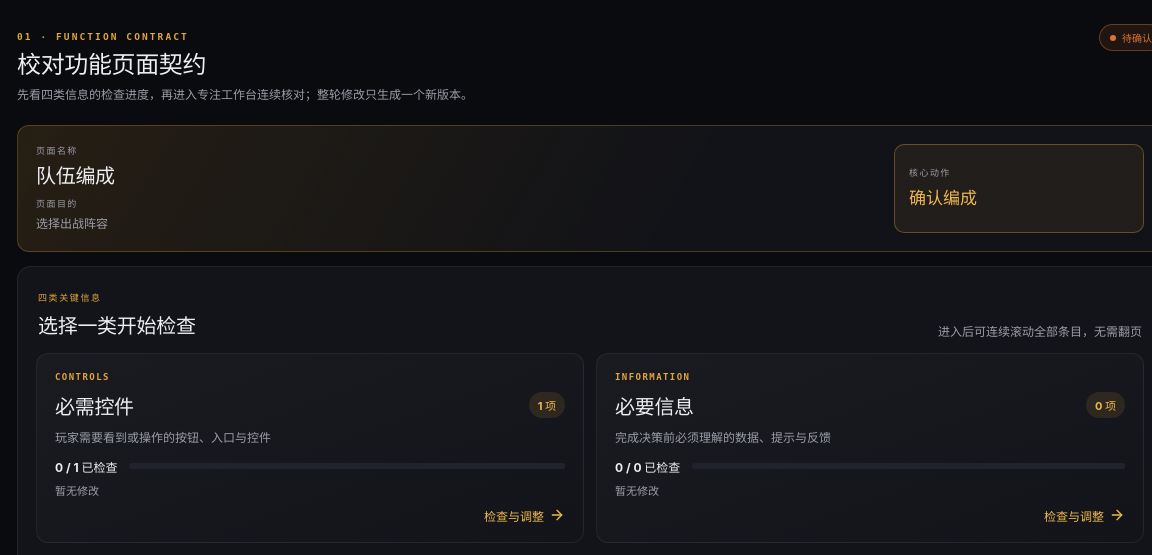
Test: ContractWorkspace（语义角色门禁路线感知） › 探索路线：角色可选，通用角色条目可直接保存，列表显示中文角色标签
Click the button with test id "contract-open-required_controls" at (82, 377), box x1=36 y1=353 x2=584 y2=543
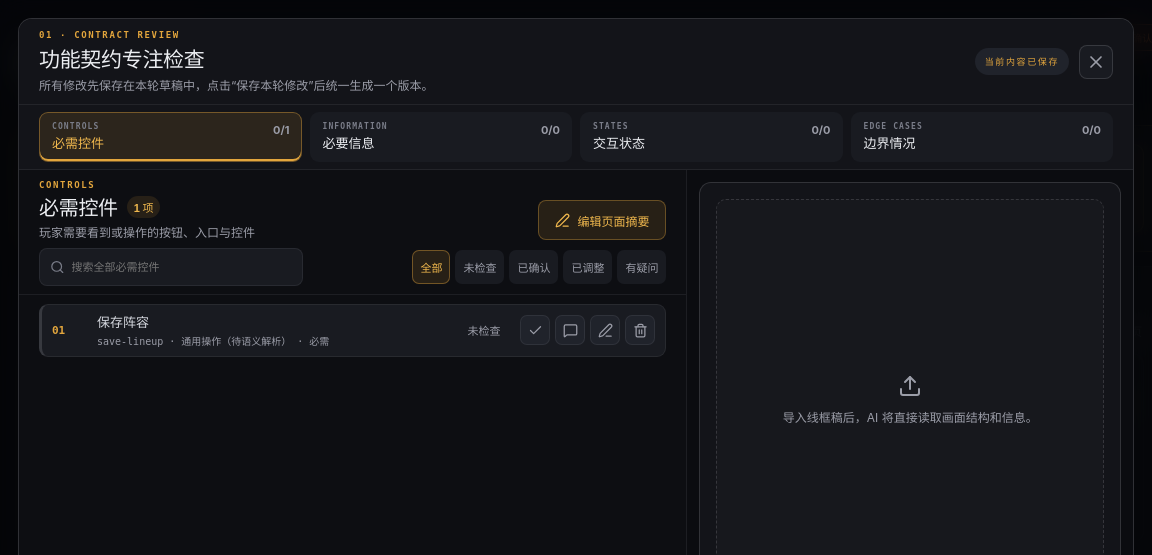
Click the button titled "编辑条目" at (605, 330), box x1=590 y1=315 x2=620 y2=345
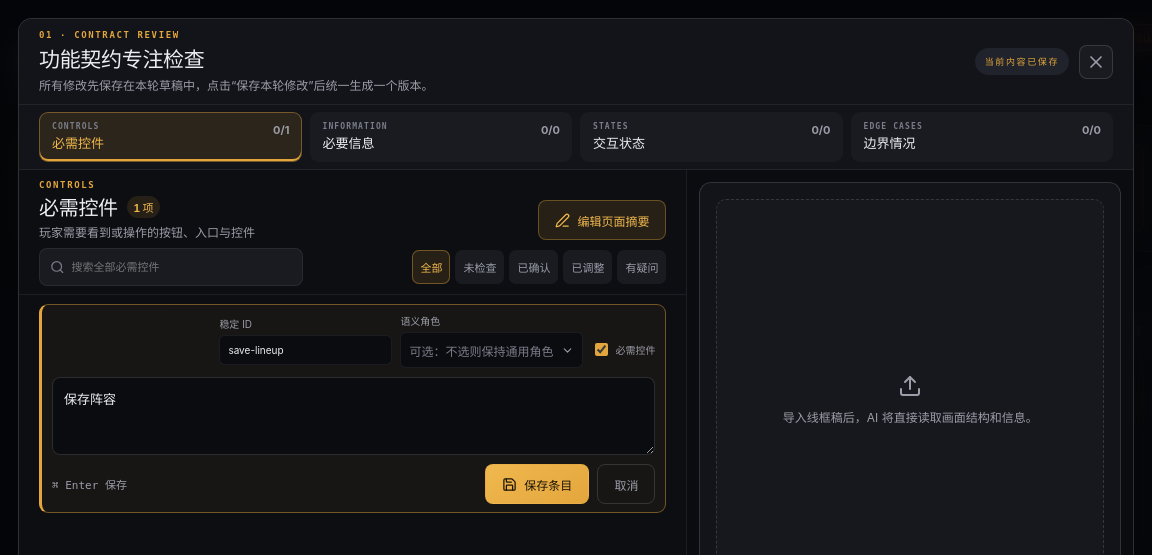
Check: the button "保存条目" is enabled
Click the button "保存条目" at (537, 484), box x1=485 y1=464 x2=589 y2=504
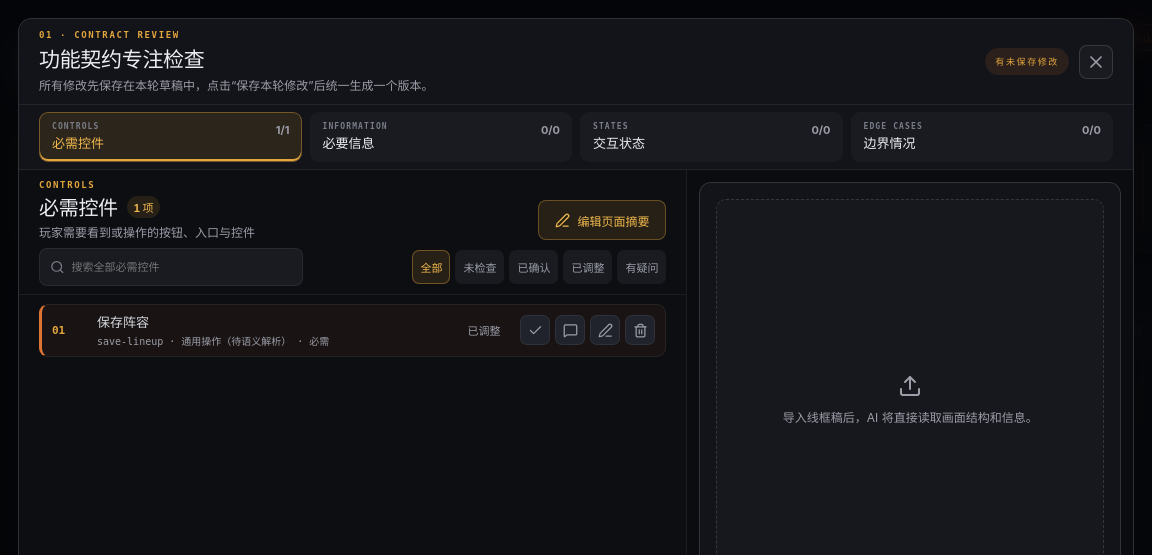
Check: the text "通用操作（待语义解析）" is shown, box x1=181 y1=336 x2=291 y2=347
Check: the text "有未保存修改" is shown, box x1=985 y1=48 x2=1069 y2=75
